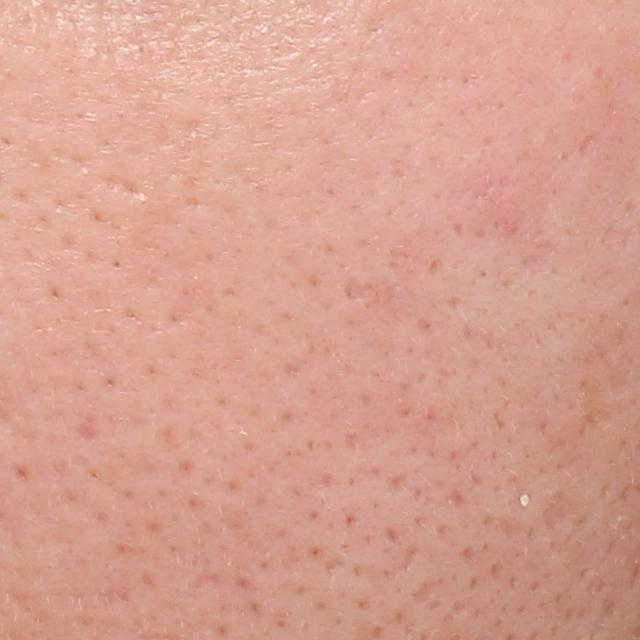atrophic_scar: (340, 276, 396, 318), (539, 491, 588, 537), (102, 172, 151, 207), (573, 127, 608, 160)
